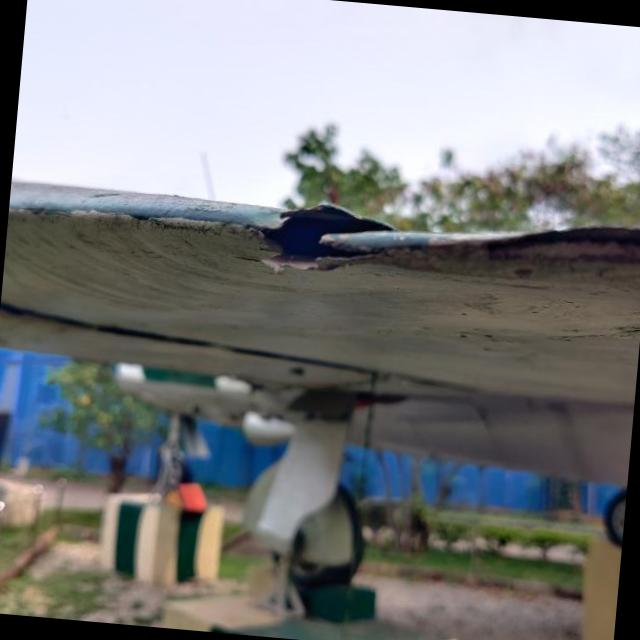Crack: (260, 203, 393, 260)
